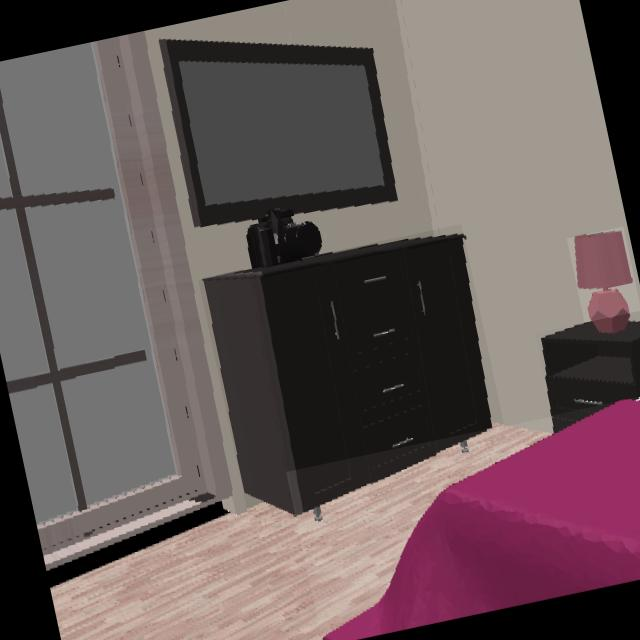bed: (325, 400, 640, 640)
cabinet: (203, 235, 493, 516)
lamp: (574, 231, 635, 335)
nighttable: (542, 322, 640, 432)
